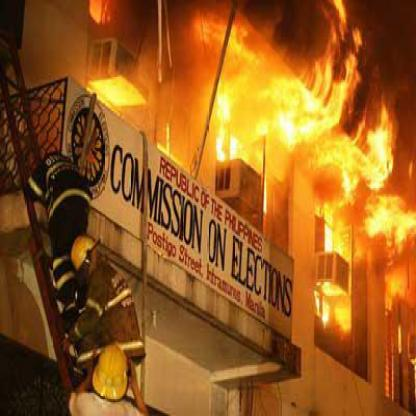fire: (176, 1, 410, 174), (313, 177, 414, 328), (88, 0, 116, 28)
